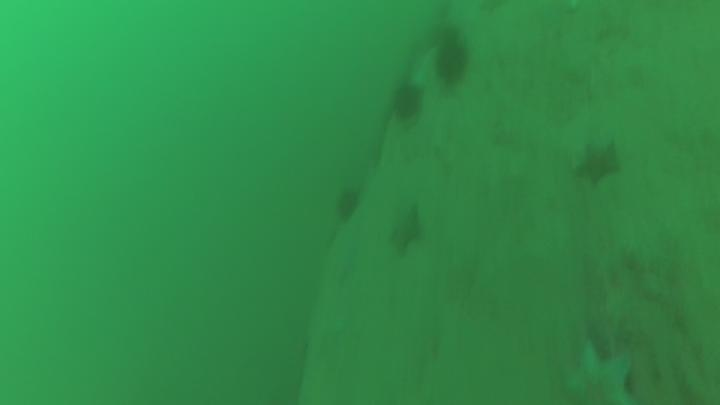echinus: (427, 41, 475, 87), (387, 77, 428, 126), (328, 187, 365, 226)
starfish: (563, 340, 638, 405), (380, 205, 428, 258), (572, 145, 622, 189)
